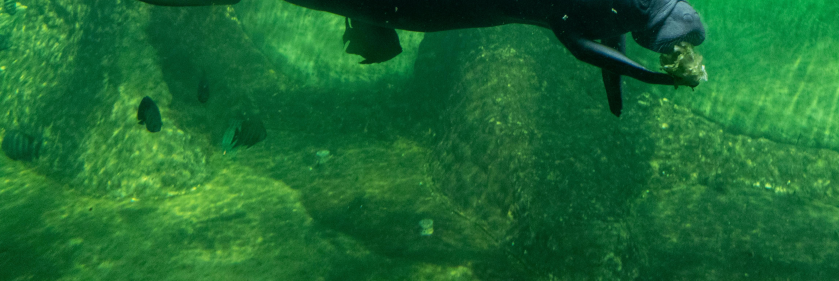fishRound: (2, 129, 42, 163), (230, 117, 267, 149), (138, 94, 164, 133)
